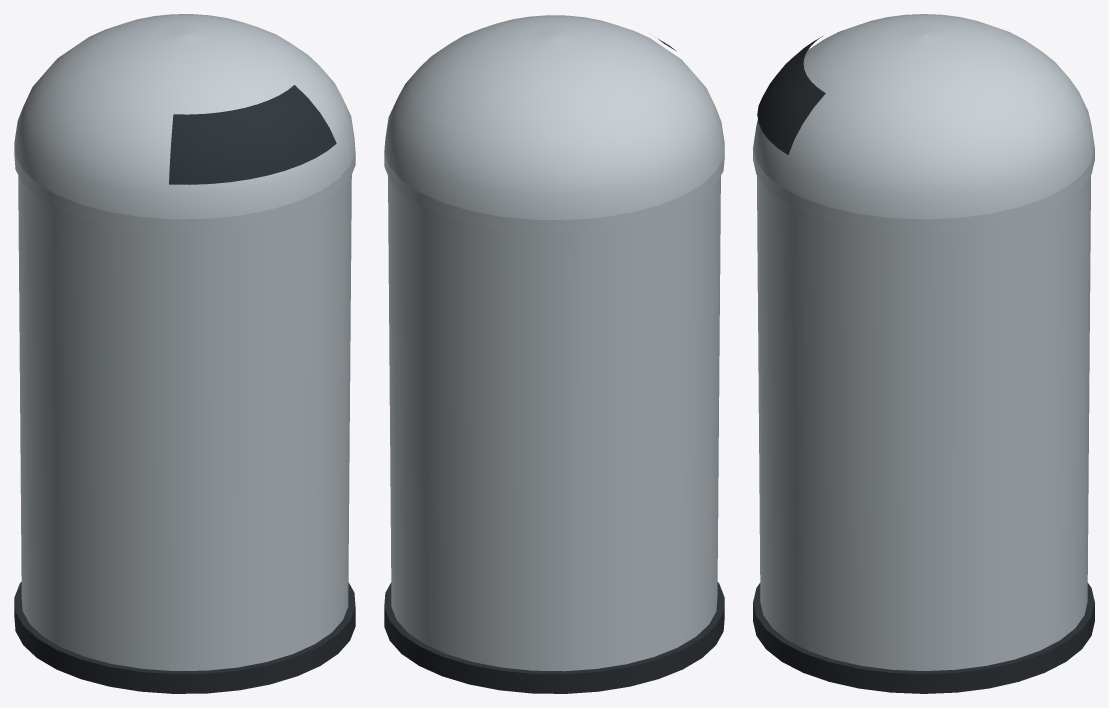
Rendered from SM_BinDome.glb.
3 views of the same model, side by side, from view 1: azimuth 30°, elevation 25°; view 2: azimuth 150°, elevation 25°; view 3: azimuth 270°, elevation 25° (orthographic).
Visible parts, largest first — view 1: SM_BinDome, Flap; view 2: SM_BinDome; view 3: SM_BinDome, Flap.
Boxes of the visible parts, <box> form: SM_BinDome: <box>14,14,355,693</box>; Flap: <box>169,85,336,184</box>; SM_BinDome: <box>384,15,724,693</box>; SM_BinDome: <box>753,14,1094,693</box>; Flap: <box>757,35,825,154</box>.
Bounding box in the file's own units: 0.47 × 0.89 × 0.47.
Materials: 2 (2 with a texture image).
